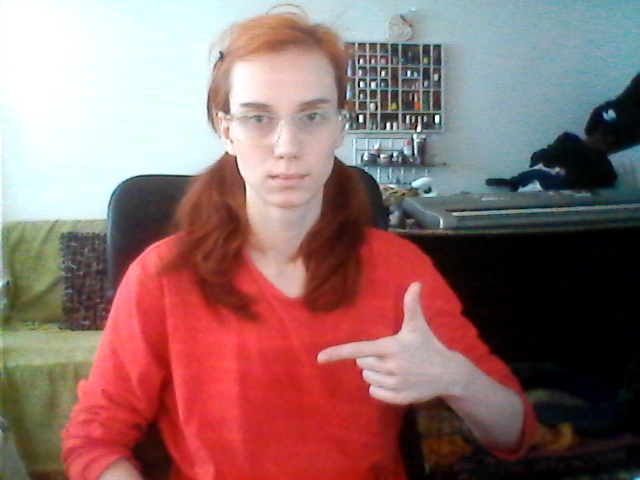dva_dve: (312, 278, 460, 408)
